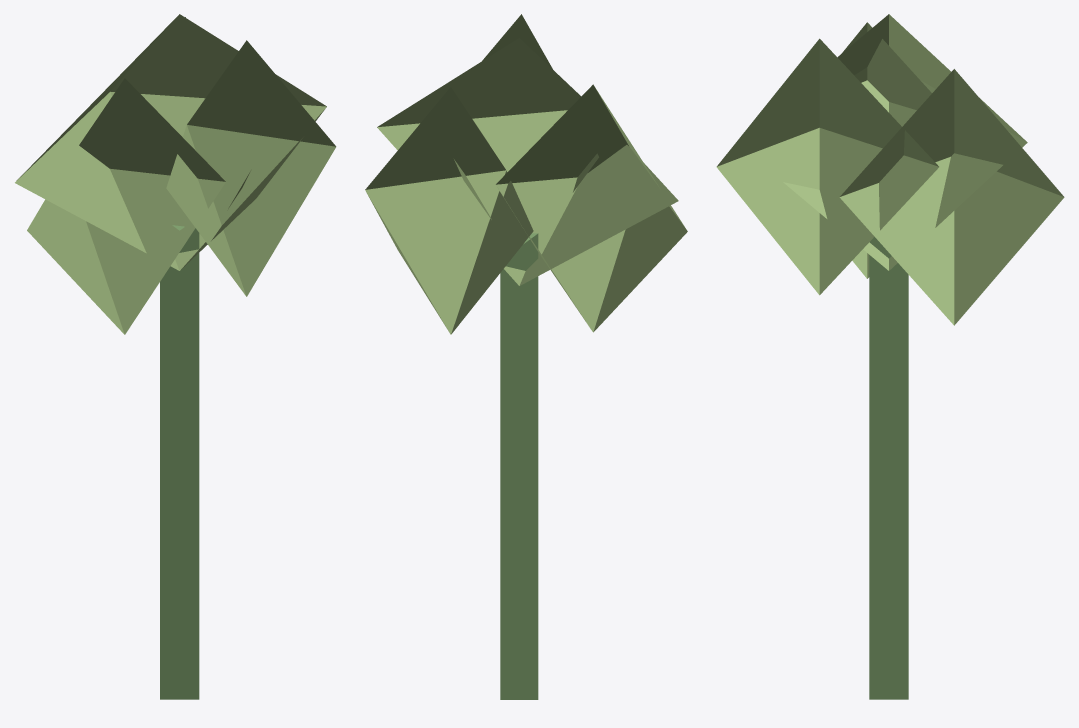
File: tree.sub.bamboo_grove__spring.glb
The picture shows the model from 3 angles, left to right: view 1: azimuth 30°, elevation 25°; view 2: azimuth 150°, elevation 25°; view 3: azimuth 270°, elevation 25°; orthographic projection. The views are drawn at different scales.
Visible parts, largest first — view 1: tree.sub.bamboo_grove__spring; view 2: tree.sub.bamboo_grove__spring; view 3: tree.sub.bamboo_grove__spring.
Boxes of the visible parts, box(x1,y1,x2,y2) form: tree.sub.bamboo_grove__spring: box(15, 14, 336, 699); tree.sub.bamboo_grove__spring: box(365, 14, 687, 699); tree.sub.bamboo_grove__spring: box(716, 14, 1064, 699).
Size of the model in its own units: 5.06 by 10.68 by 4.88.
